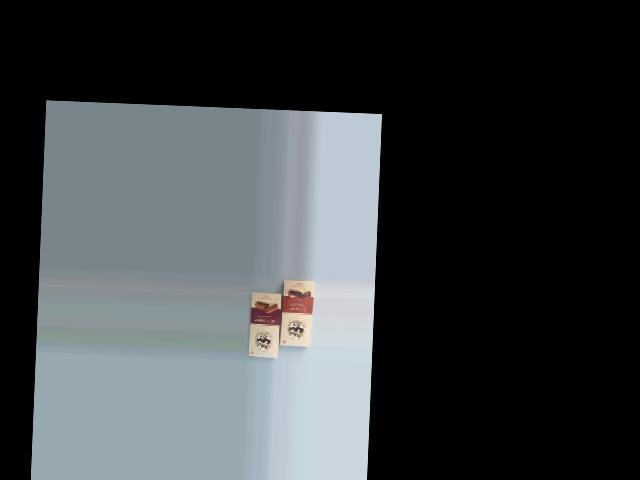chocolate: (273, 278, 316, 350)
